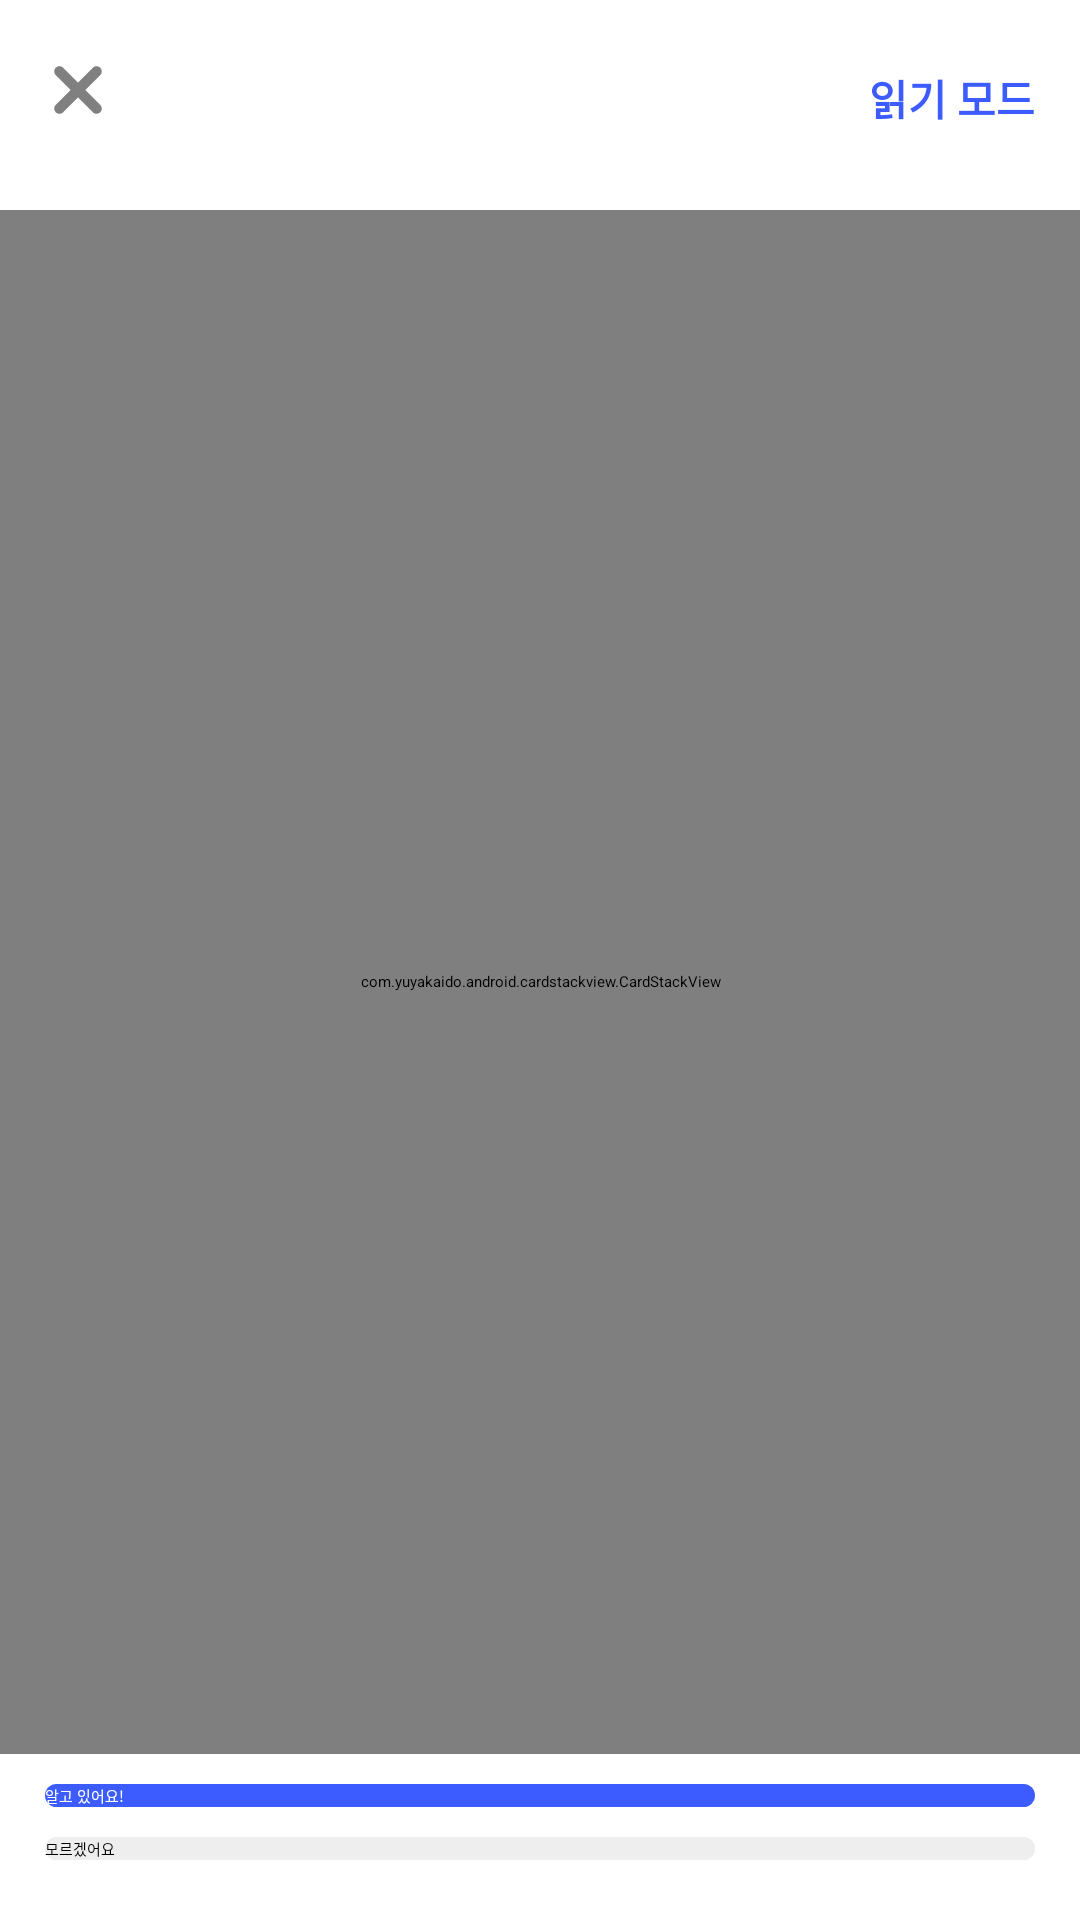

Named icons in this screenshot (1080*1920) and their centers, (x,y):
close: (78,90)
